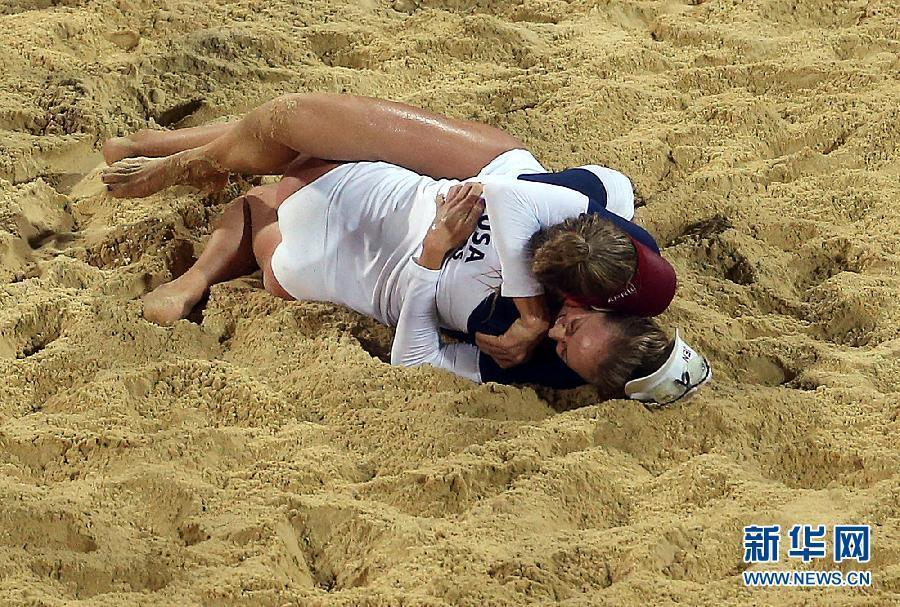Fall-Detected: (123, 130, 688, 410)
